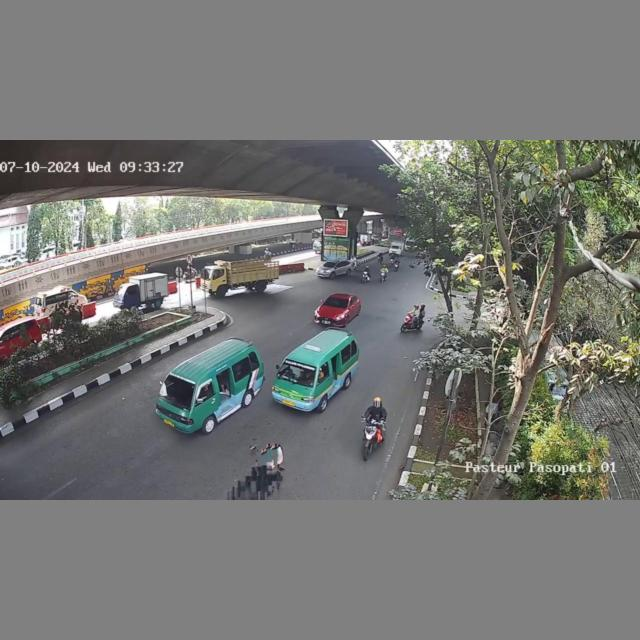windshield: (159, 374, 196, 409), (275, 358, 319, 387), (323, 294, 349, 310)
